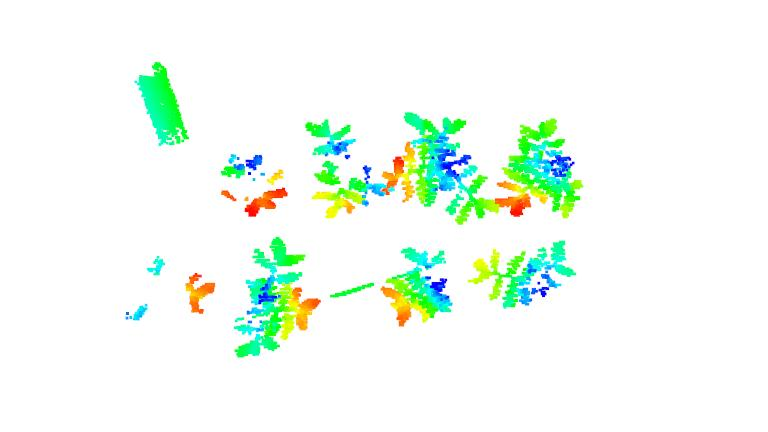chickpea: (379, 111, 496, 220), (231, 236, 312, 362), (494, 118, 584, 217), (305, 115, 390, 215), (471, 237, 579, 310), (128, 254, 220, 324), (382, 244, 457, 329), (216, 153, 289, 215)
